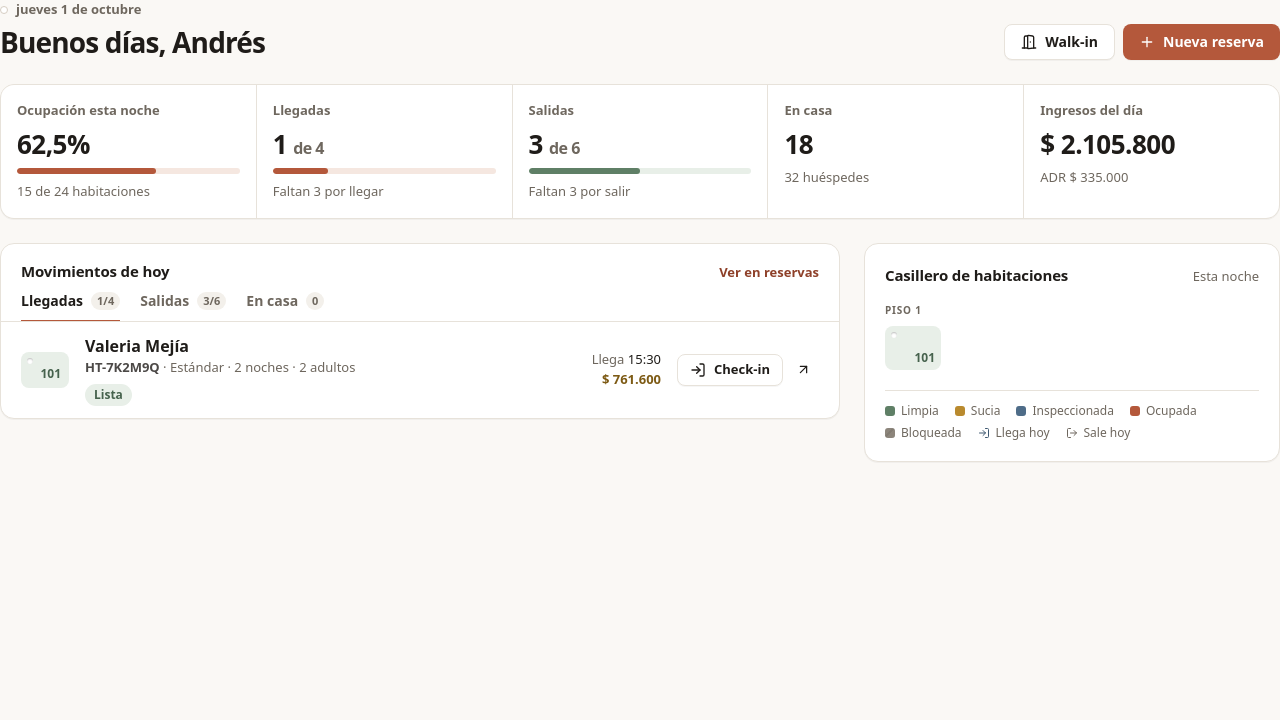
Test: TodayPage › checks a guest in from the list in two clicks and refreshes the board
The width and height of the screenshot is (1280, 720).
Click the button "Check-in": (730, 370) [677,354,783,386]
(page scrolled)
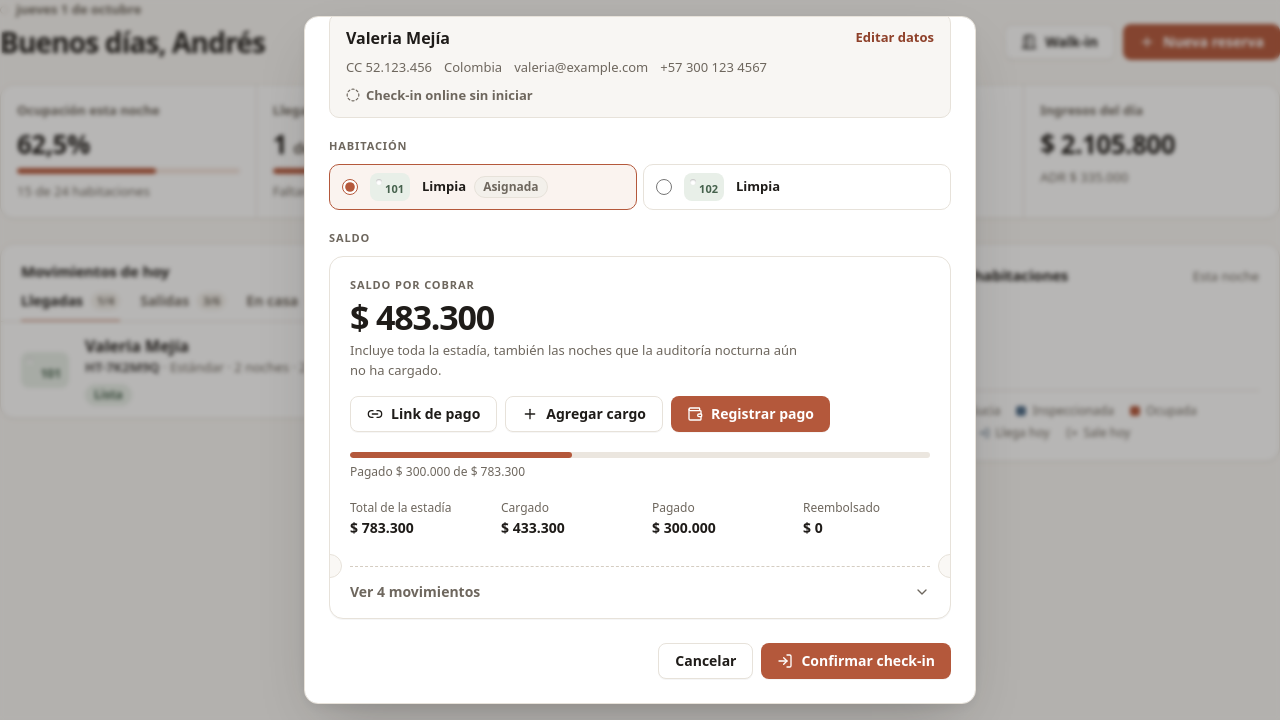
Click the button "Confirmar check-in": (856, 661) [762,643,951,679]
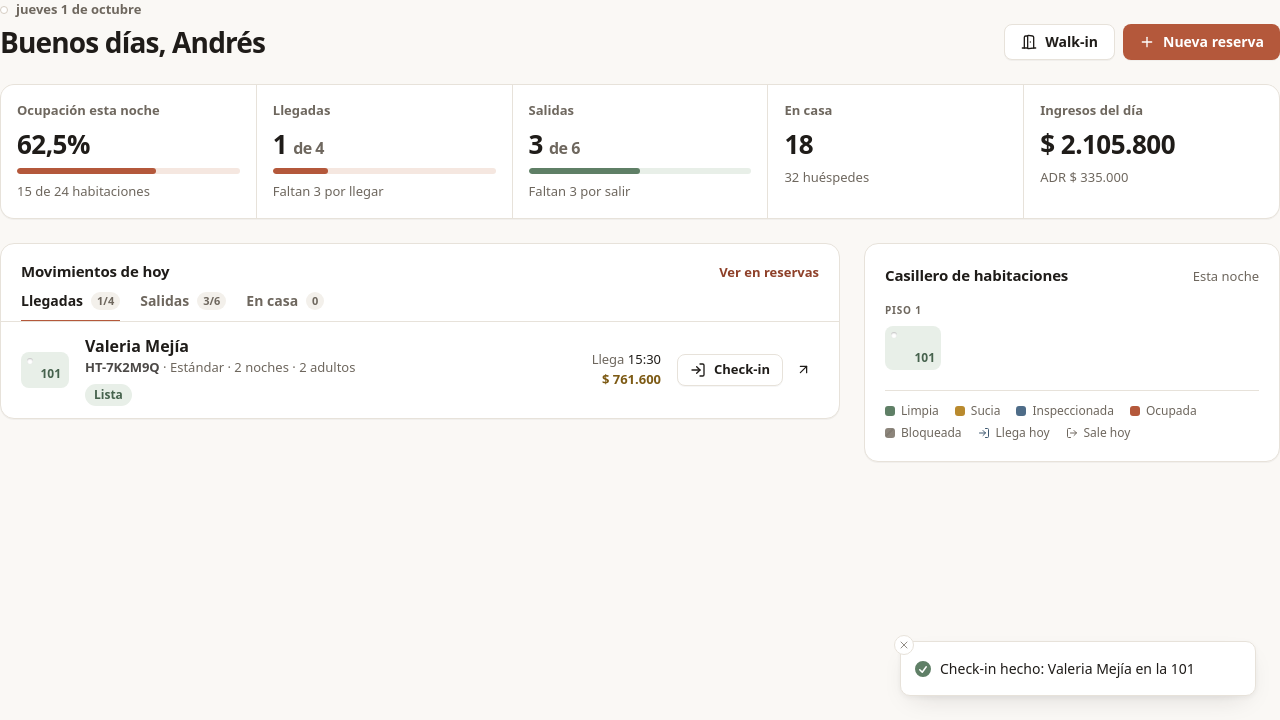
Expected: the dialog is gone
